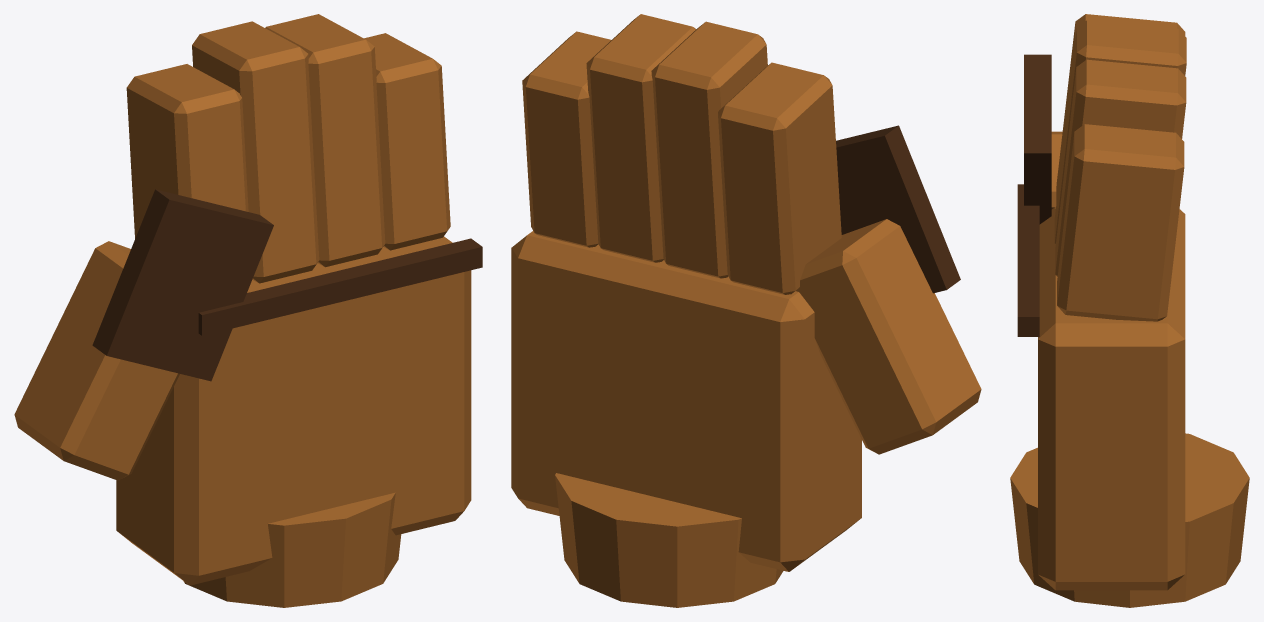
The model's file is Prop_WZ_Glove.glb.
3 views of the same model, side by side, from view 1: azimuth 30°, elevation 25°; view 2: azimuth 150°, elevation 25°; view 3: azimuth 270°, elevation 25° (orthographic). The views are drawn at different scales.
Visible parts, largest first — view 1: Prop_WZ_Glove; view 2: Prop_WZ_Glove; view 3: Prop_WZ_Glove.
Part boxes in pixels (bbox=[...]): Prop_WZ_Glove: bbox=[14, 14, 482, 607]; Prop_WZ_Glove: bbox=[511, 14, 981, 607]; Prop_WZ_Glove: bbox=[1010, 14, 1249, 607].
Size of what is drawn, in the model's own units: 0.2512 by 0.3073 by 0.13.
